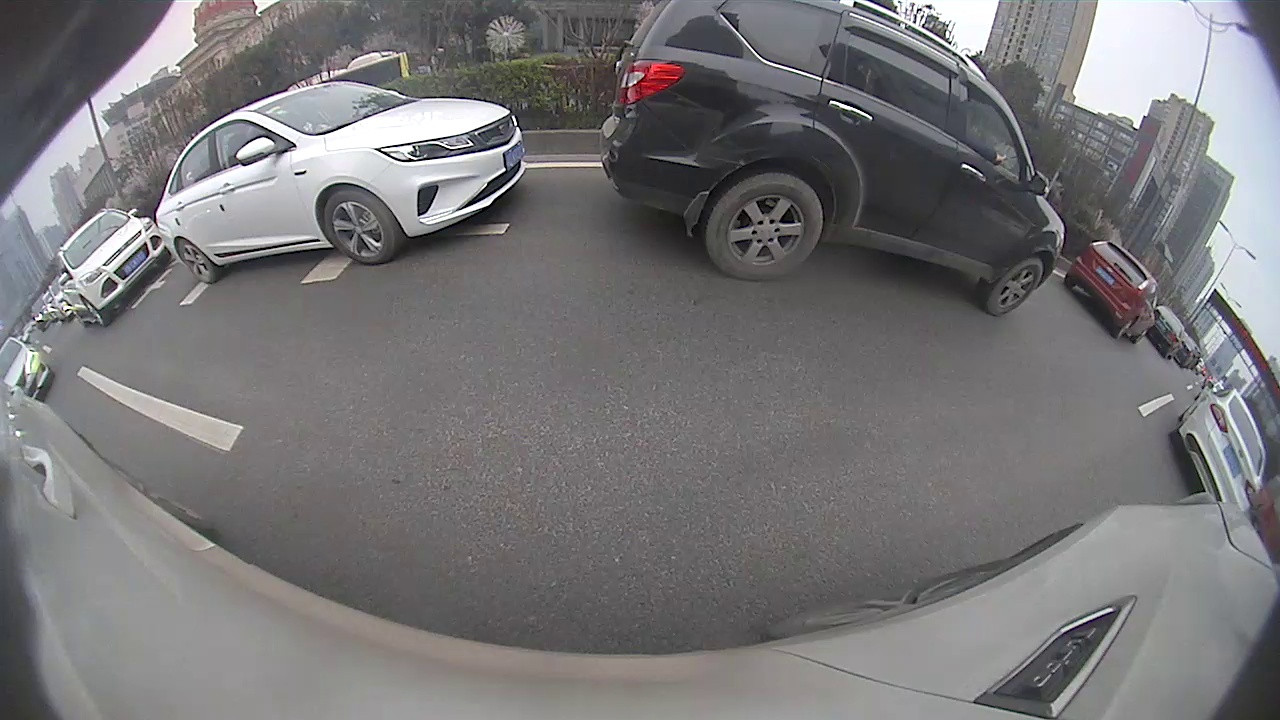car: (595, 1, 1066, 317), (153, 79, 526, 285), (54, 209, 176, 327), (1167, 385, 1269, 519), (1062, 240, 1161, 345), (0, 334, 54, 401)
front: (322, 186, 400, 267), (986, 257, 1045, 318), (84, 297, 109, 327)
rear: (704, 172, 824, 283), (175, 237, 224, 286)
